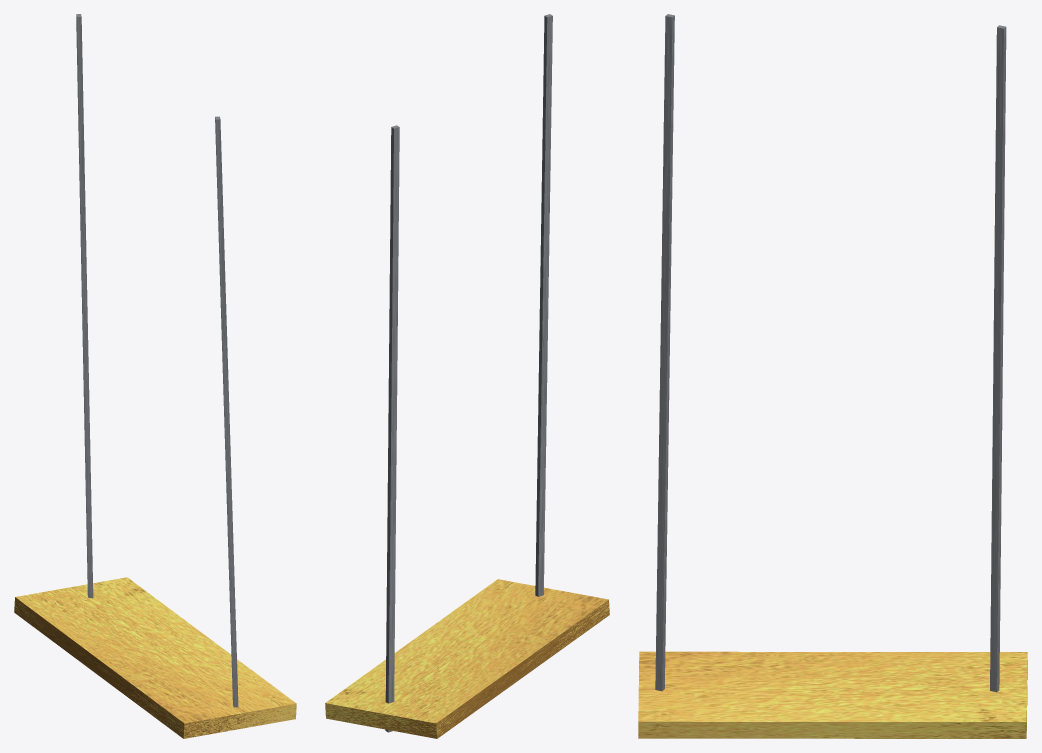
The model's file is leaganBun.obj.
3 renders of one model, left to right at view 1: azimuth 30°, elevation 25°; view 2: azimuth 150°, elevation 25°; view 3: azimuth 270°, elevation 25°, orthographic. The views are drawn at different scales.
Parts seen in each view (by area): view 1: Cube.012, Cube.010, Cube.011; view 2: Cube.012, Cube.010, Cube.011; view 3: Cube.012, Cube.010, Cube.011.
Boxes of the visible parts, bbox=[...] form: Cube.012: bbox=[14, 577, 296, 738]; Cube.010: bbox=[215, 116, 238, 707]; Cube.011: bbox=[76, 14, 93, 598]; Cube.012: bbox=[325, 579, 609, 738]; Cube.010: bbox=[535, 14, 552, 596]; Cube.011: bbox=[385, 125, 399, 732]; Cube.012: bbox=[638, 651, 1027, 738]; Cube.010: bbox=[655, 14, 674, 691]; Cube.011: bbox=[990, 25, 1006, 692].
Bounding box in the file's own units: 0.0429 × 0.2206 × 0.1114.
3 materials, 3 textured.
